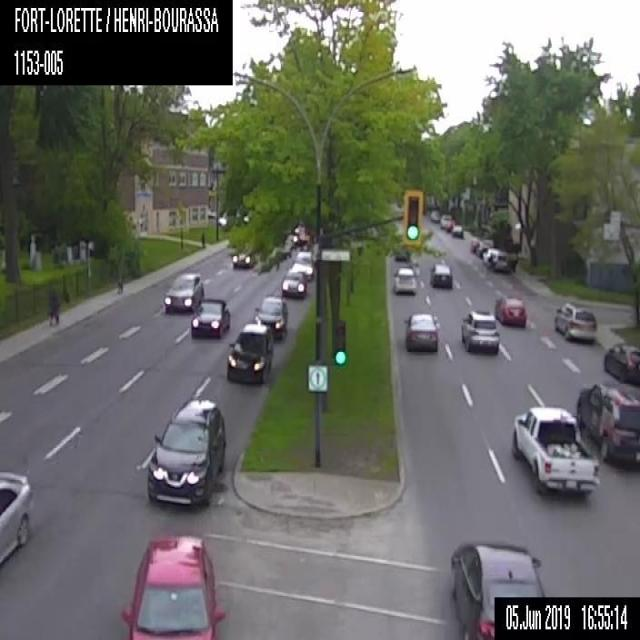pedestrian: (48, 285, 59, 327), (115, 272, 124, 292), (199, 233, 206, 250)
vehicle: (118, 530, 227, 638), (448, 536, 546, 639), (144, 393, 225, 512), (513, 404, 601, 498), (576, 381, 639, 467), (0, 469, 33, 567), (224, 323, 274, 385), (459, 309, 501, 355), (190, 295, 230, 340), (160, 272, 204, 310), (554, 302, 596, 341), (403, 308, 438, 352), (603, 341, 639, 382), (254, 292, 285, 334), (492, 294, 526, 324), (391, 264, 417, 293), (281, 268, 307, 296), (290, 248, 313, 276), (487, 251, 516, 272), (430, 262, 453, 286), (230, 251, 256, 268), (481, 245, 501, 263), (475, 240, 491, 256), (450, 223, 465, 237), (469, 234, 481, 250), (440, 213, 452, 228), (296, 225, 308, 236), (428, 209, 439, 221), (444, 218, 454, 230), (289, 235, 295, 241)
